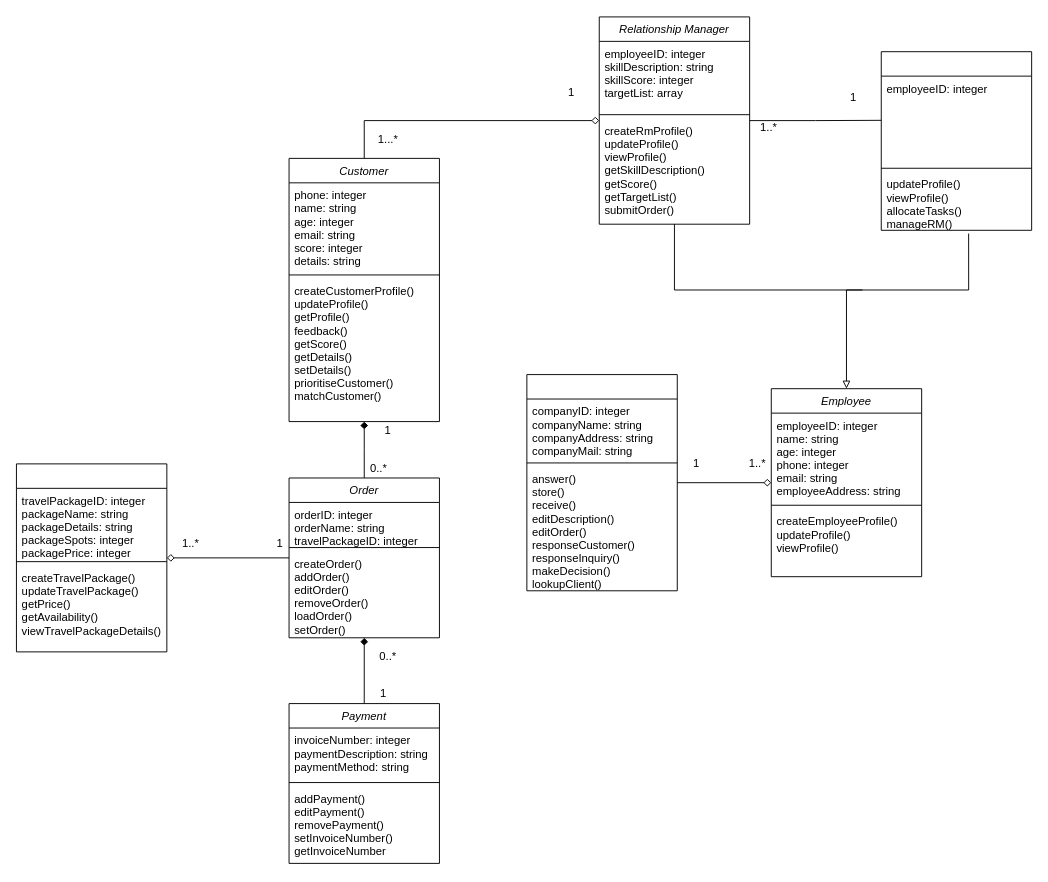
Image size: 1048x882. Some labels were removed from this diagram. The shapes that lost their labels are listed below. From the top down, each one's box as (x1, y1, x2, y2) in pixels, then its label:
(880, 51, 1032, 230): HR Manager
(526, 374, 677, 591): Travel Company
(16, 463, 167, 652): Travel Packages
